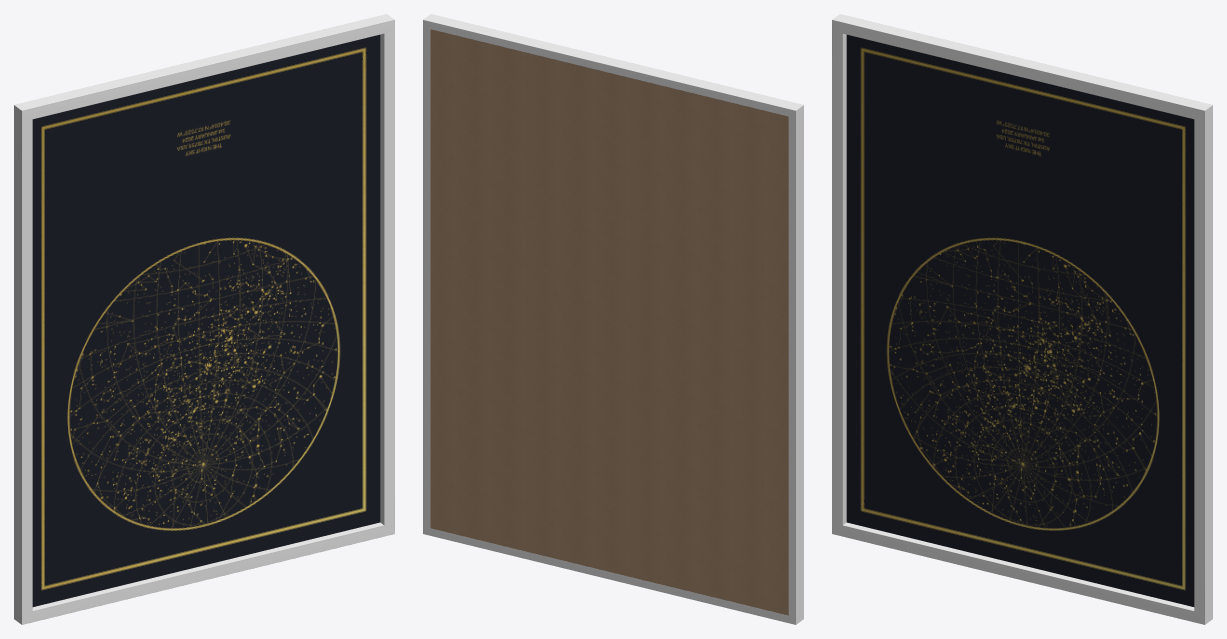
The model's file is tns-1.glb.
3 renders of one model, left to right at view 1: azimuth 30°, elevation 25°; view 2: azimuth 150°, elevation 25°; view 3: azimuth 330°, elevation 25°, orthographic.
Visible parts, largest first — view 1: Generated; view 2: Generated; view 3: Generated.
Part boxes in pixels (x1,y1,x2,y2): Generated: (14, 14, 394, 624); Generated: (423, 14, 803, 624); Generated: (832, 14, 1212, 624).
Size of the model in its own units: 0.5397 by 0.7109 by 0.0202.
3 materials, 3 textured.
